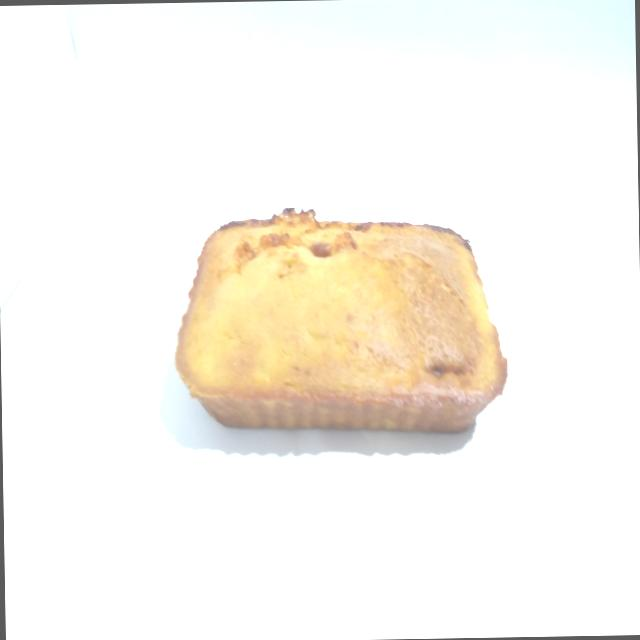Sopa: (151, 195, 516, 464)
